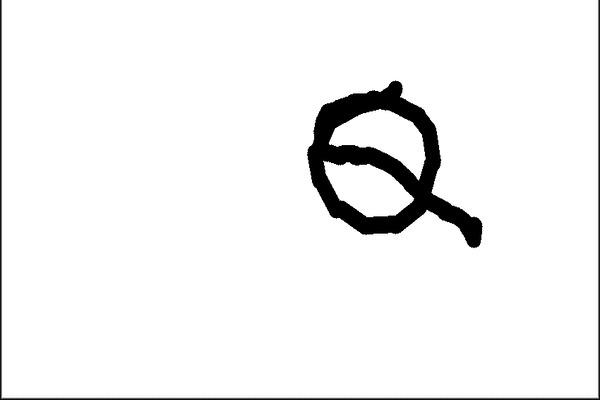Q: (289, 72, 486, 254)
